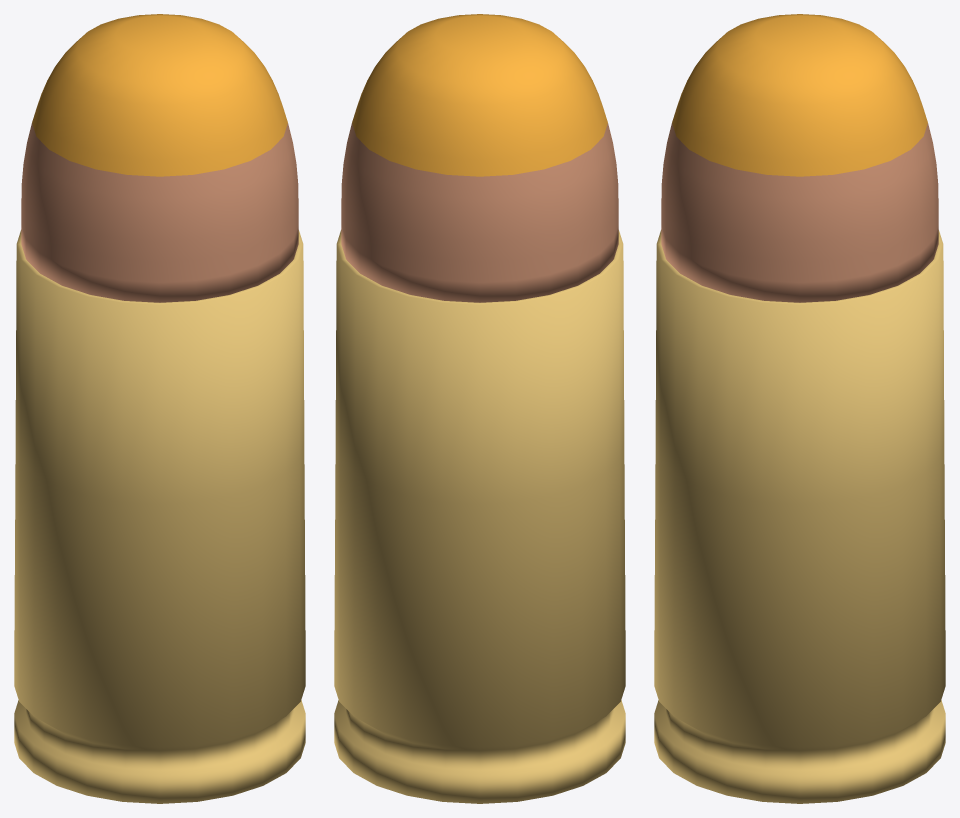
File: 45acp_in.glb
3 renders of one model, left to right at view 1: azimuth 30°, elevation 25°; view 2: azimuth 150°, elevation 25°; view 3: azimuth 270°, elevation 25°, orthographic.
Visible parts, largest first — view 1: vaina, bala_cuerpo, punta; view 2: vaina, bala_cuerpo, punta; view 3: vaina, bala_cuerpo, punta.
Boxes of the visible parts, x1=… form: vaina: x1=14, y1=230, x2=305, y2=803; bala_cuerpo: x1=21, y1=123, x2=298, y2=302; punta: x1=32, y1=14, x2=287, y2=176; vaina: x1=334, y1=230, x2=625, y2=803; bala_cuerpo: x1=341, y1=123, x2=618, y2=302; punta: x1=352, y1=14, x2=607, y2=176; vaina: x1=654, y1=230, x2=945, y2=803; bala_cuerpo: x1=661, y1=123, x2=938, y2=302; punta: x1=672, y1=14, x2=927, y2=176.
Size of the model in its own units: 0.0121 by 0.0324 by 0.0121.
